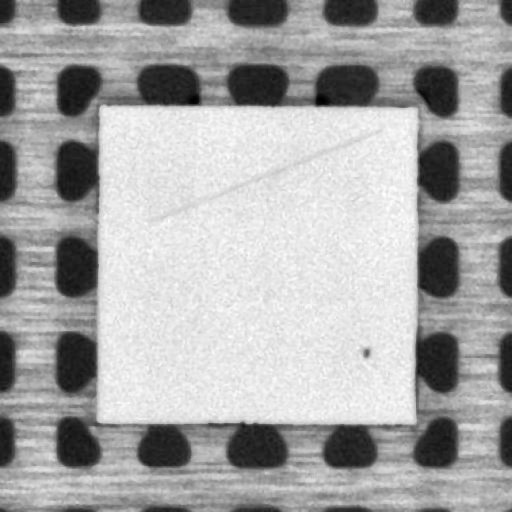DIE_CRACK: (149, 128, 381, 220)
